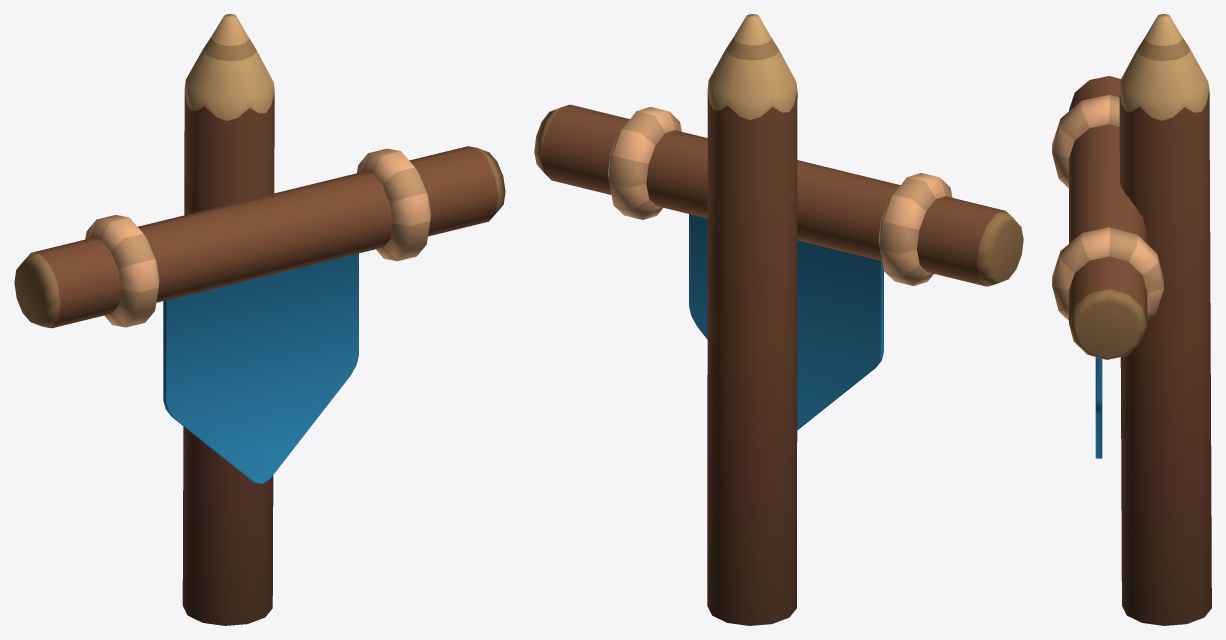
Rendered from Direction_2.fbx.
The picture shows the model from 3 angles, left to right: view 1: azimuth 30°, elevation 25°; view 2: azimuth 150°, elevation 25°; view 3: azimuth 270°, elevation 25°; orthographic projection.
Parts seen in each view (by area): view 1: Direction_2; view 2: Direction_2; view 3: Direction_2.
Boxes of the visible parts, x1,y1,x2,y2 form: Direction_2: [14, 14, 505, 625]; Direction_2: [534, 14, 1023, 625]; Direction_2: [1052, 14, 1211, 625].
Bounding box in the file's own units: 136 × 167 × 41.06.
